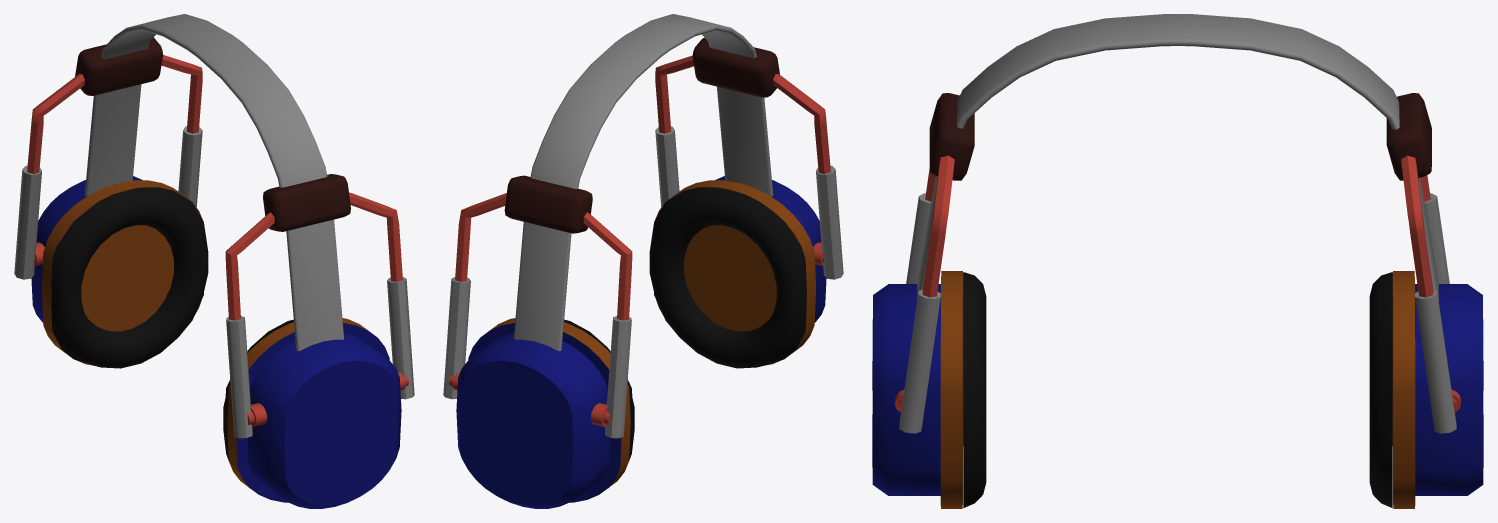
Rendered from Audifonos.fbx.
3 views of the same model, side by side, from view 1: azimuth 30°, elevation 25°; view 2: azimuth 150°, elevation 25°; view 3: azimuth 270°, elevation 25° (orthographic). The views are drawn at different scales.
Parts seen in each view (by area): view 1: Cylinder.019; view 2: Cylinder.019; view 3: Cylinder.019.
Boxes of the visible parts, box(x1,y1,x2,y2) form: Cylinder.019: box(14, 14, 414, 508); Cylinder.019: box(443, 14, 843, 508); Cylinder.019: box(872, 14, 1483, 508).
Size of the model in its own units: 90.38 by 188 by 222.
